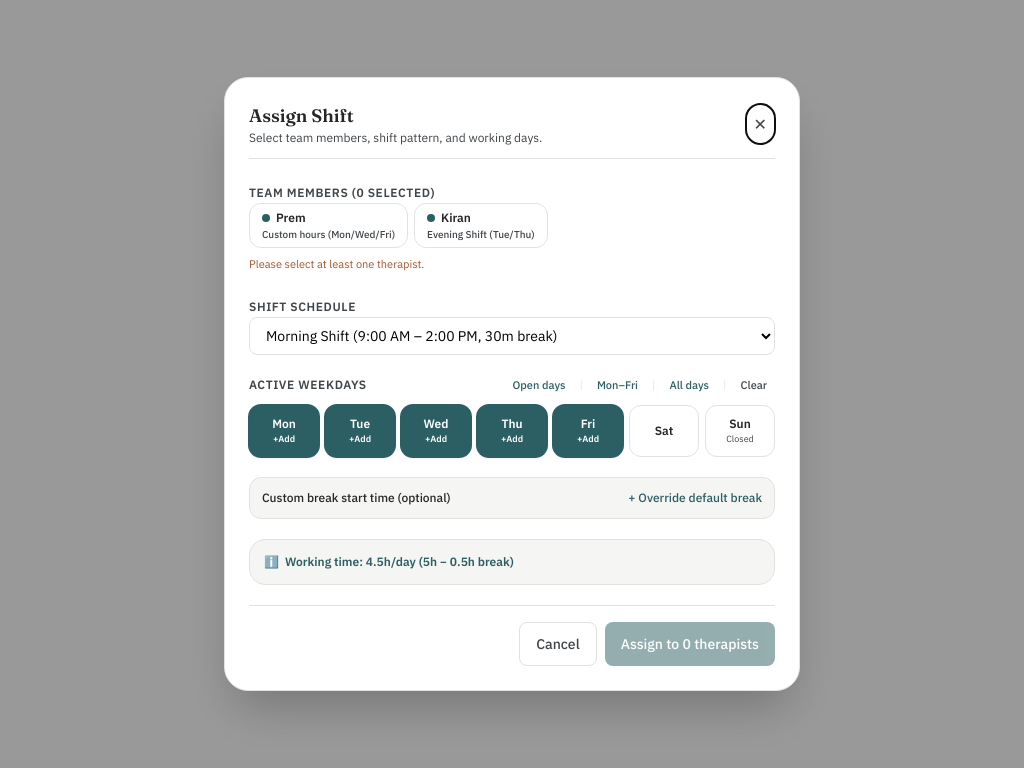
Test: AssignShiftDialog › dynamically loads schedule when toggling between therapists with different schedules
Expected: the button "Kiran Evening Shift (Tue/Thu)" is shown, [414, 203, 548, 248]
// Click Prem
Click the button "Prem Custom hours (Mon/Wed/Fri)".
click(328, 225)  # box [249, 203, 408, 248]
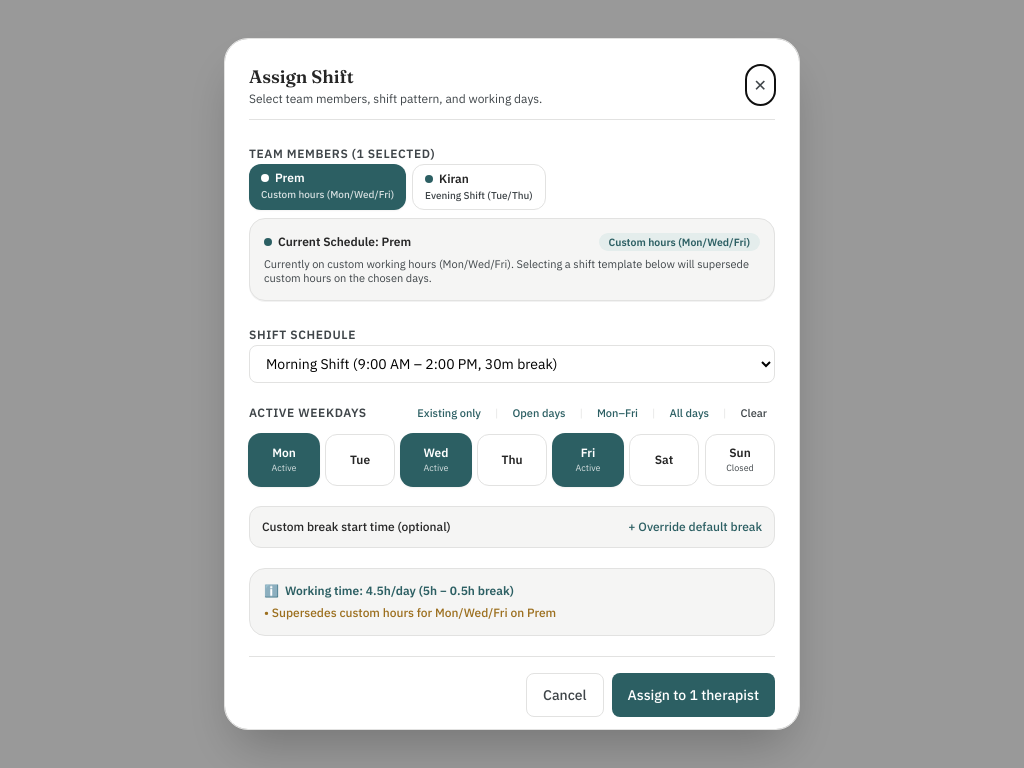
Expected: the text "Currently on custom working hours" is shown, [264, 257, 443, 271]
// Click Kiran to select both
Click the button "Kiran Evening Shift (Tue/Thu)".
click(479, 187)  # box [412, 164, 546, 210]
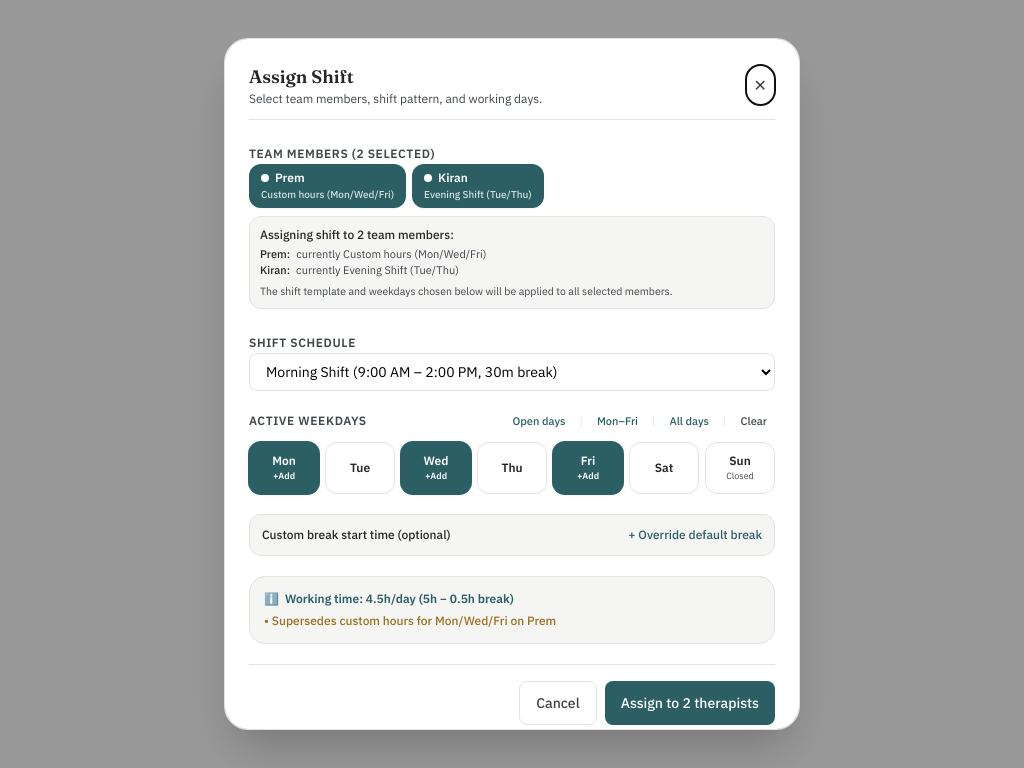
Expected: the text "Assigning shift to 2 team members:" is shown, [260, 227, 454, 242]
Expected: the text "currently Custom hours (Mon/Wed/Fri)" is shown, [296, 247, 486, 261]
Expected: the text "currently Evening Shift (Tue/Thu)" is shown, [296, 263, 459, 278]
// Deselect Prem so only Kiran is selected
Click the button "Prem Custom hours (Mon/Wed/Fri)".
click(328, 186)  # box [249, 164, 406, 208]
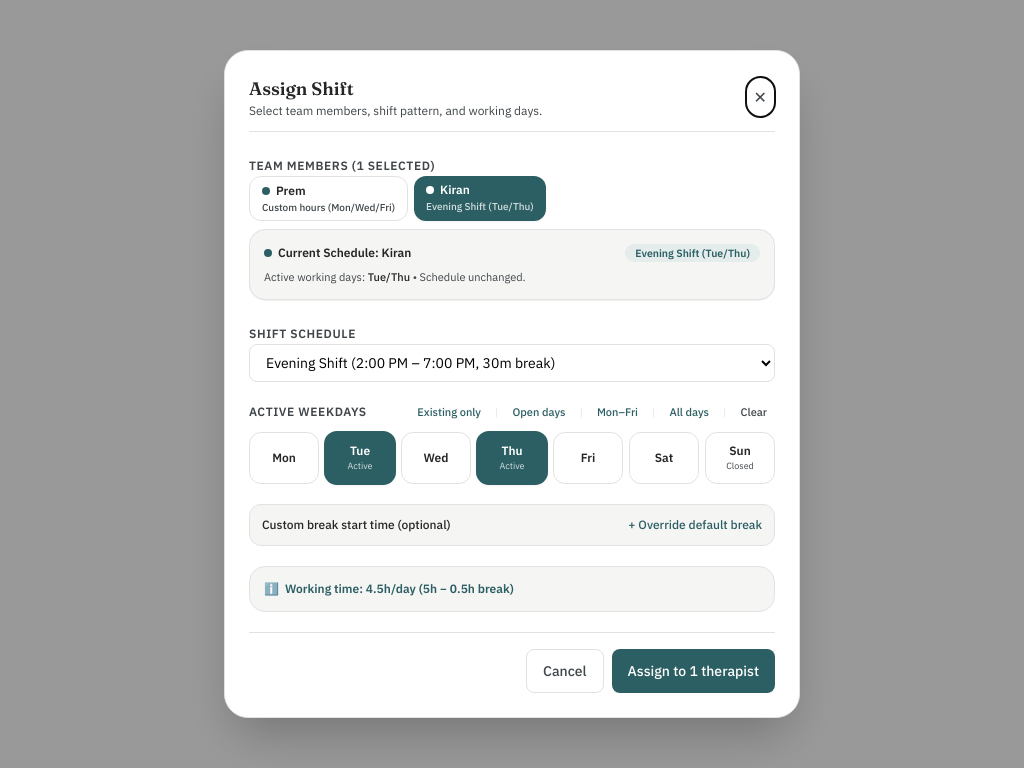
Expected: the dropdown shows "Evening Shift (2:00 PM – 7:00 PM, 30m break)", [249, 344, 775, 382]
